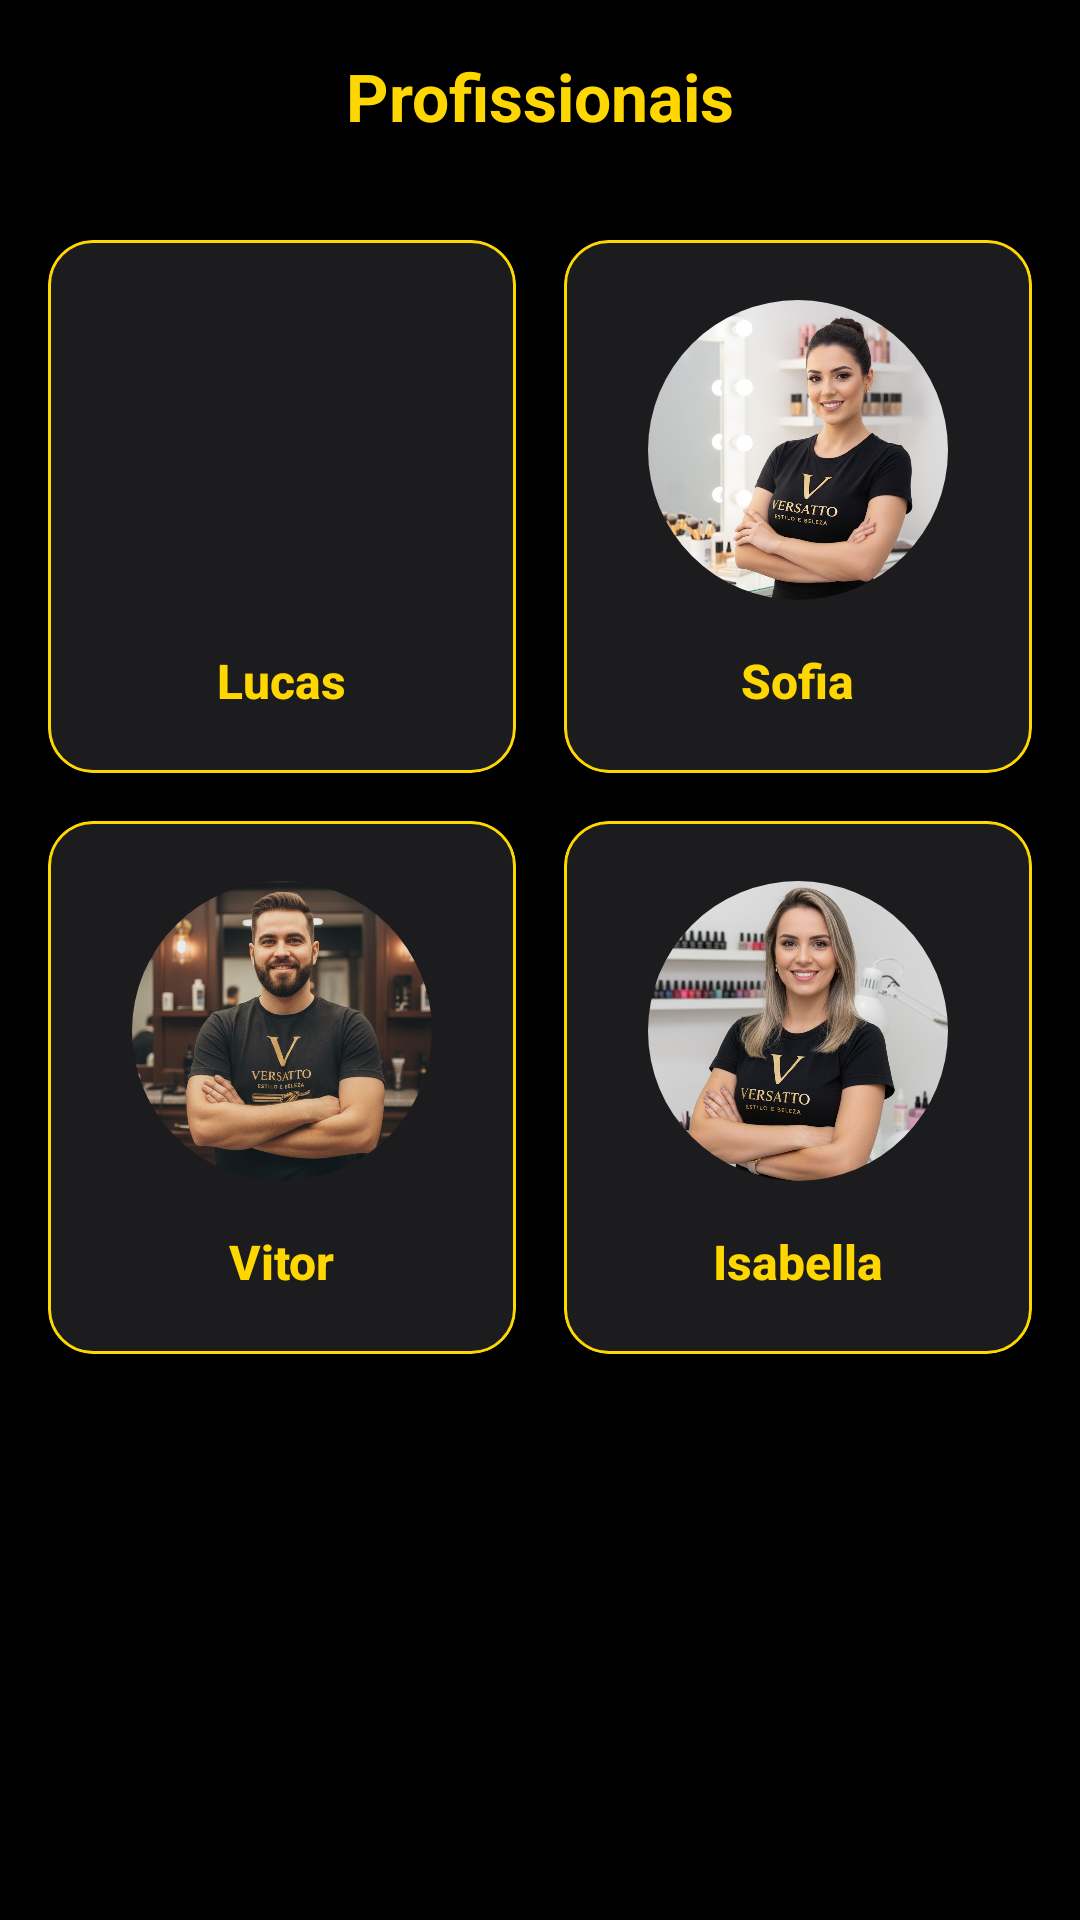

Where to tap for icons on this 1080*1920 app screen, as [x,y]:
maqueadora: [798,449]
